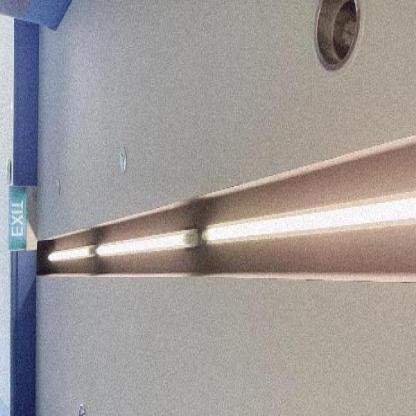light_on: (202, 181, 415, 247), (94, 225, 196, 265), (45, 231, 92, 265)
